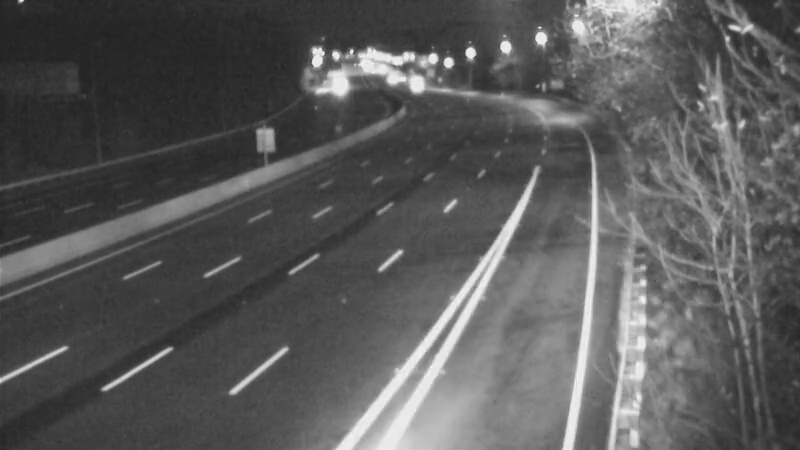vehicle: (392, 59, 442, 109)
